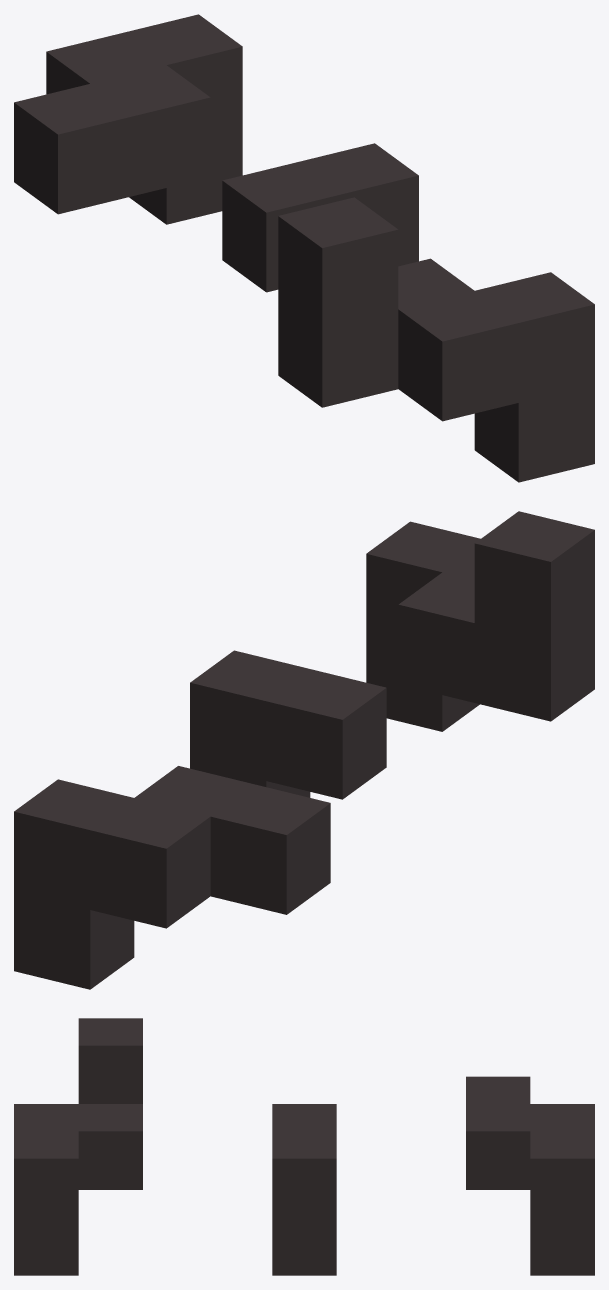
The model's file is ladybug__leg_l.obj.
The picture shows the model from 3 angles, top to bottom: view 1: azimuth 30°, elevation 25°; view 2: azimuth 150°, elevation 25°; view 3: azimuth 270°, elevation 25°; orthographic projection. The views are drawn at different scales.
Parts seen in each view (by area): view 1: ladybug__leg_l; view 2: ladybug__leg_l; view 3: ladybug__leg_l.
Boxes of the visible parts, x1,y1,x2,y2 form: ladybug__leg_l: [14, 14, 594, 482]; ladybug__leg_l: [14, 511, 594, 989]; ladybug__leg_l: [14, 1018, 594, 1275].
Bounding box in the file's own units: 0.3 × 0.3 × 0.9.
Materials: 1 (1 with a texture image).
